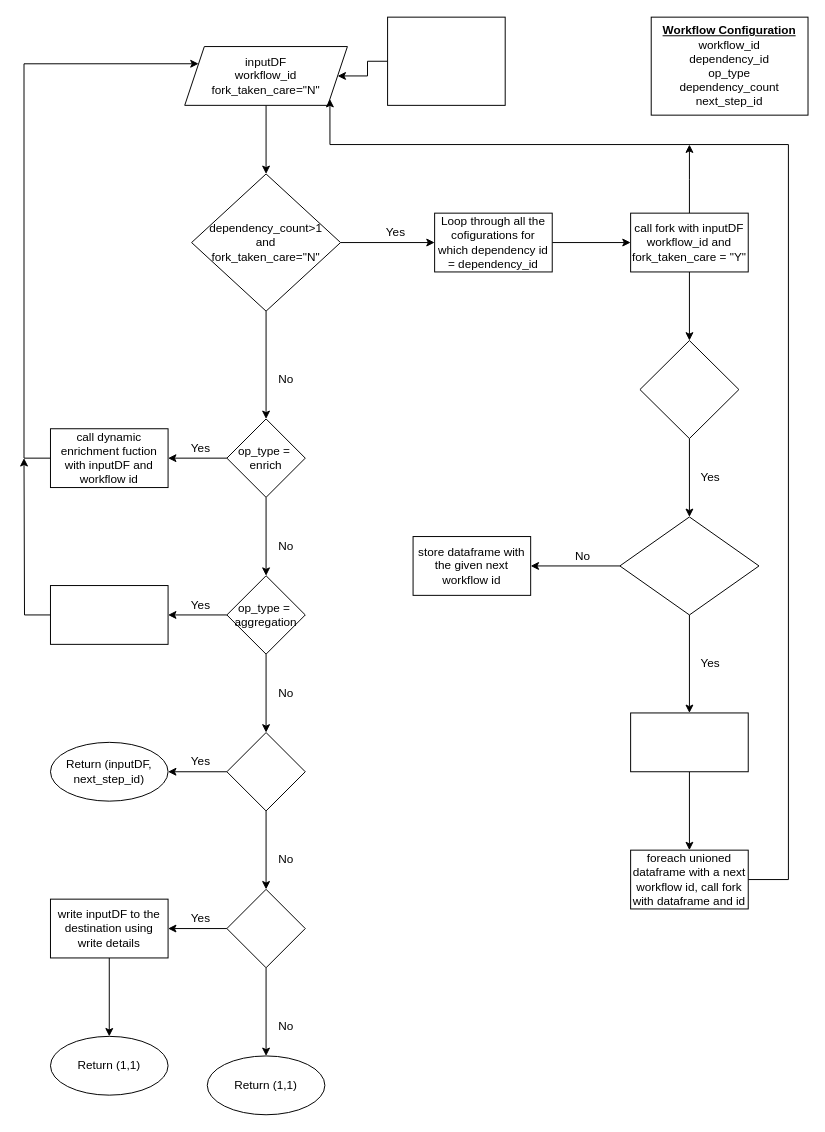
The diagram is 825 pixels wide and 1132 high, and some of its shapes have lost their labels. Each missing label, with the centre of its shape:
call aggregation function with inputDF and workflow id: the point at 108,614
dataframe exists with same next_workflow_id: the point at 689,565
dependency_id op_type dependency_count next_step_id: the point at 446,60
if return value is dataframe: the point at 689,389
op_type = union: the point at 265,771
op_type = write: the point at 265,928
Union both Dataframes: the point at 689,742
